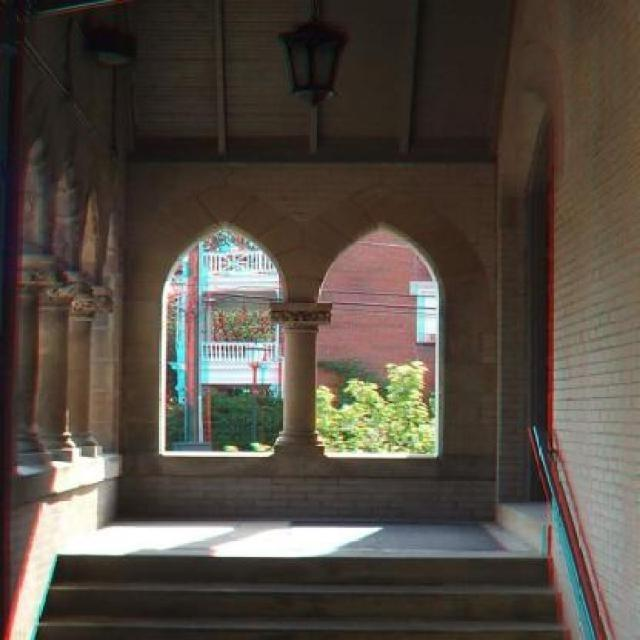stair: (29, 549, 576, 640), (476, 496, 550, 554)
